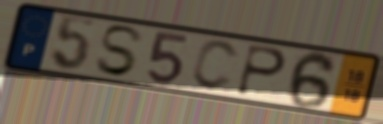5: (142, 29, 194, 86), (50, 15, 98, 73)
6: (285, 49, 340, 111)
C: (189, 38, 241, 93)
P: (233, 42, 289, 99)
S: (93, 23, 146, 79)
